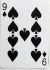nine: (1, 1, 49, 69)
